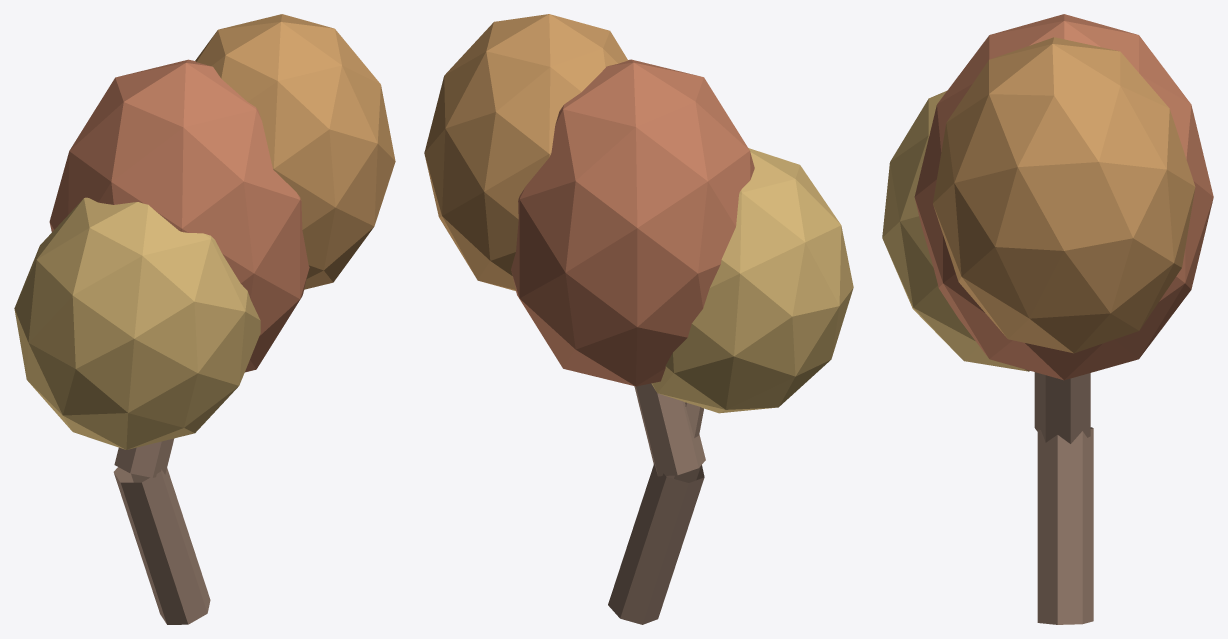
The picture shows the model from 3 angles, left to right: view 1: azimuth 30°, elevation 25°; view 2: azimuth 150°, elevation 25°; view 3: azimuth 270°, elevation 25°; orthographic projection. The views are drawn at different scales.
Visible parts, largest first — view 1: T07; view 2: T07; view 3: T07.
Part boxes in pixels (x1,y1,x2,y2): T07: (14, 14, 395, 624); T07: (424, 14, 853, 624); T07: (882, 14, 1213, 624).
Size of the model in its own units: 1.45 by 2.13 by 1.01.
